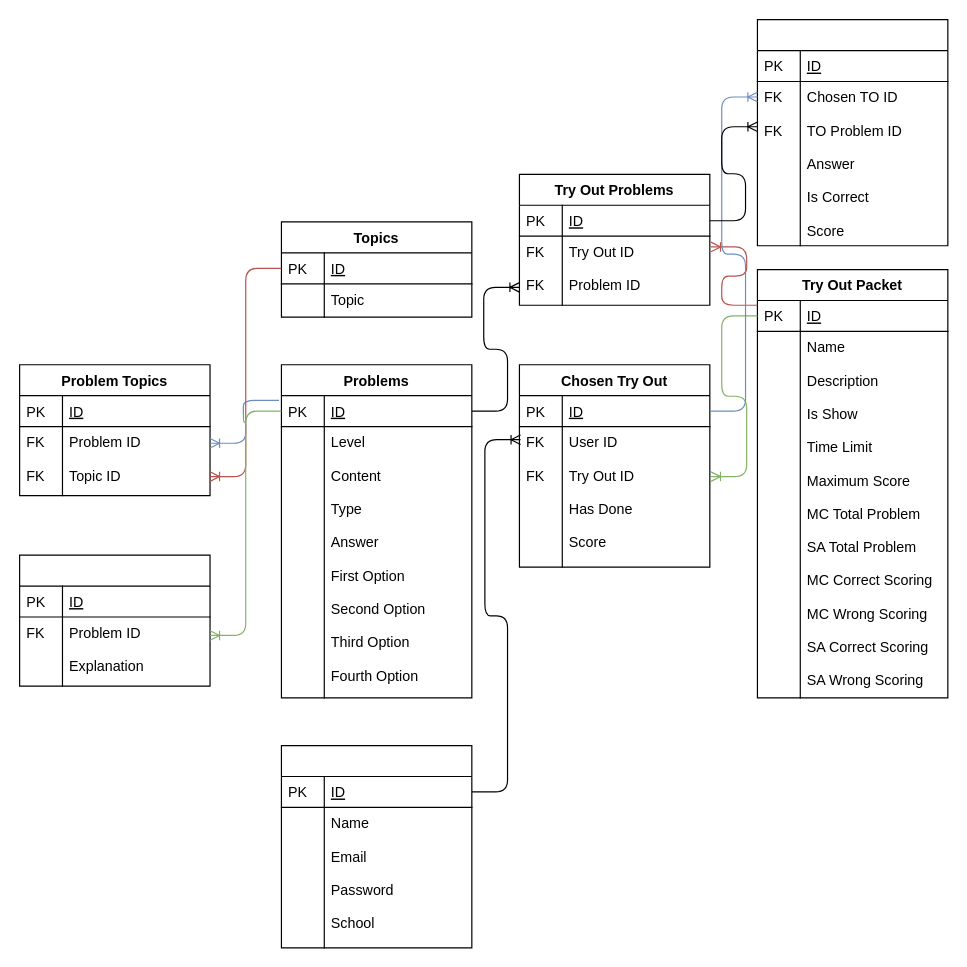
This 967x967 diagram has some shape labels left out. The box of each missing label's shape, as (x1, y1, x2, y2) in pixels:
Solutions: (18, 554, 210, 686)
User Answer: (756, 18, 948, 246)
Users: (280, 744, 472, 948)
